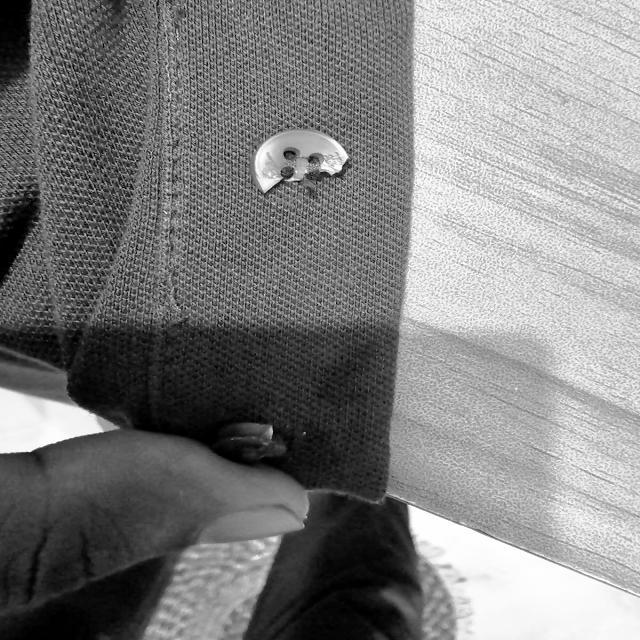Broken_button: (238, 122, 358, 198), (206, 410, 302, 476)
